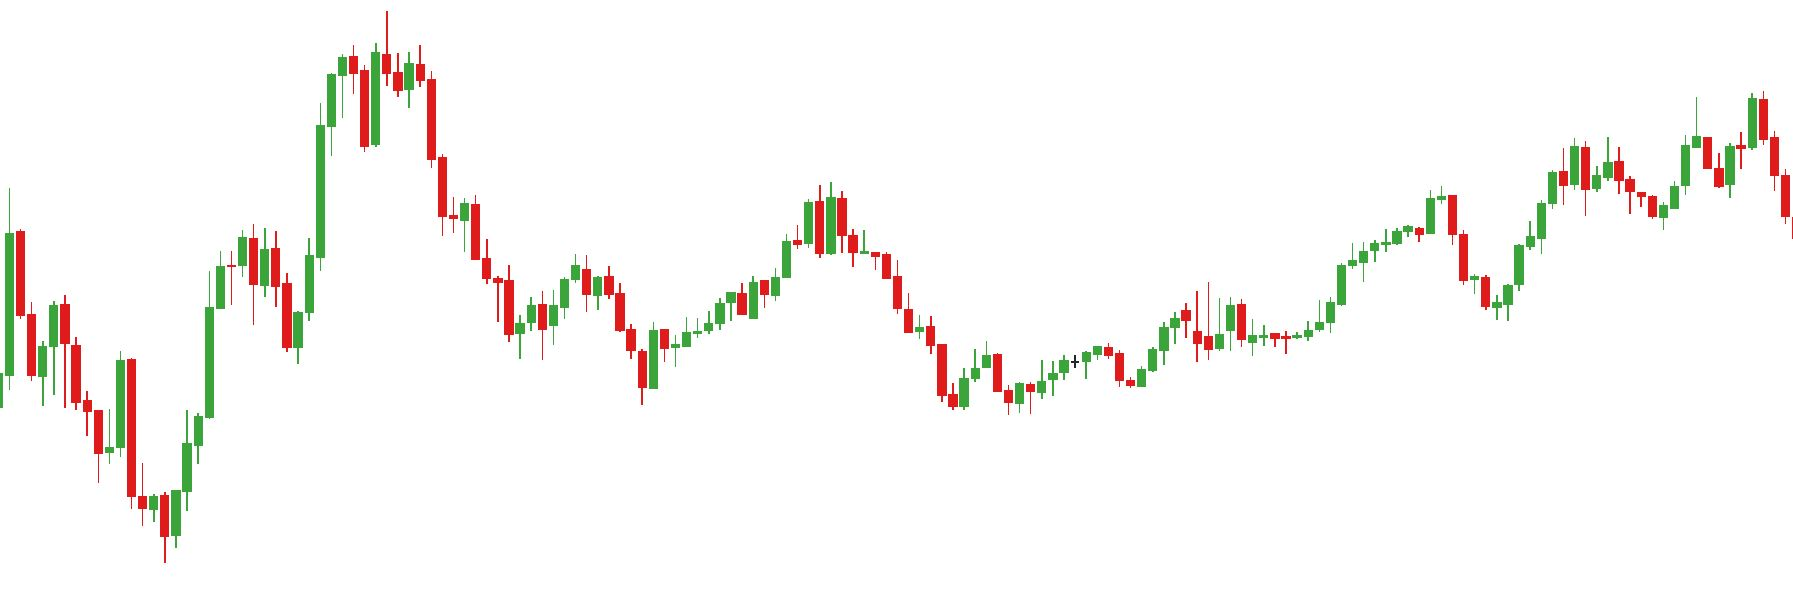sell: (1602, 91, 1713, 180)
